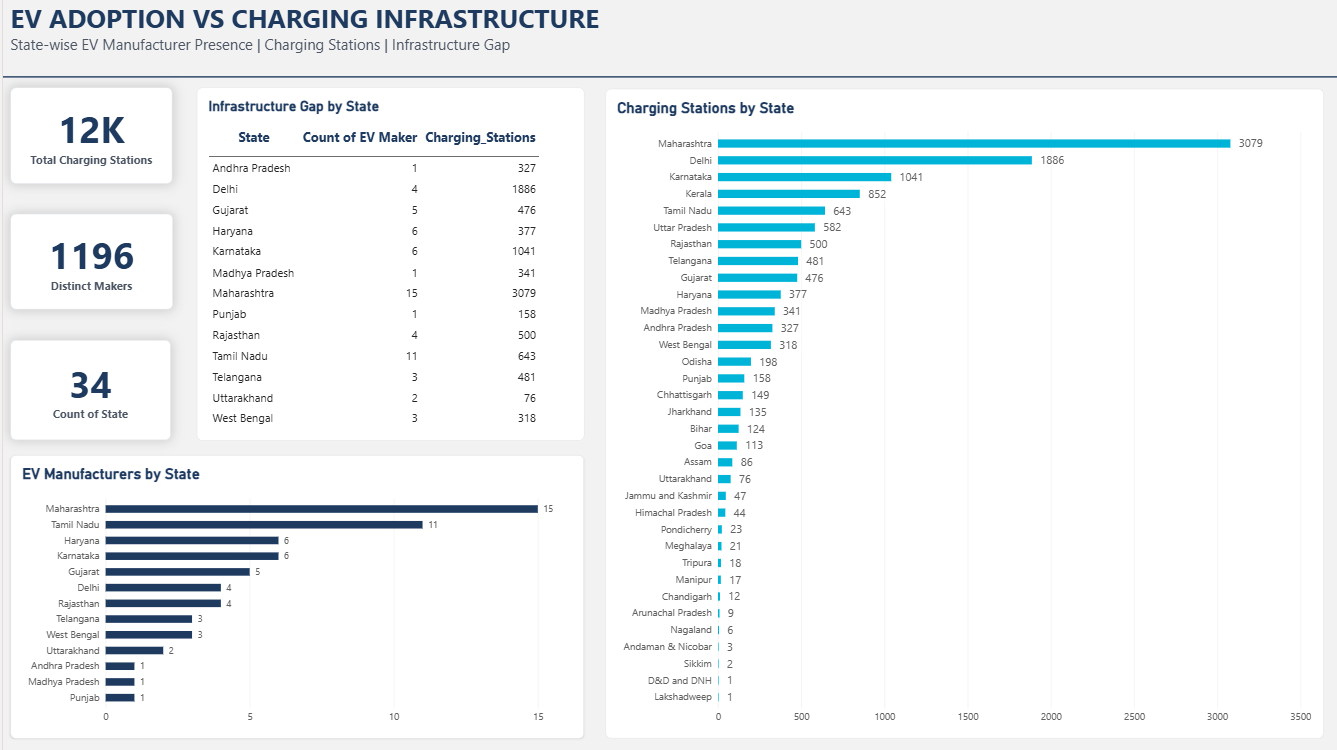

This screenshot's page, from the dashboard's own definition file:
{"tool":"powerbi","page":{"name":"Infrastructure Analysis","canvas":[1920,1080],"ordinal":2},"visuals":[{"type":"textbox","box":[10.8,0,1006.7,71.9],"z":0},{"type":"textbox","box":[10.8,48.5,949.2,77.3],"z":1000},{"type":"shape","box":[0,36,1920,149.2],"z":2000},{"type":"card","title":"Distinct Makers","fields":{"Values":["FactMakerSales.Distinct Makers"]},"box":[11.5,307.7,233.3,137.8],"z":3000},{"type":"card","title":"States with Charging Stations","fields":{"Values":["Count(FactCharging.State)"]},"box":[11.5,488.5,230.8,144.2],"z":4000},{"type":"card","title":"Total Charging Stations","fields":{"Values":["FactCharging.Total Charging Stations"]},"box":[10.2,126.5,232.7,138.8],"z":5000},{"type":"clusteredBarChart","title":"Charging Stations by State","fields":{"Category":["FactCharging.State"],"Y":["FactCharging.Total Charging Stations"]},"box":[867.3,126.9,1032.7,934.6],"z":6000},{"type":"clusteredBarChart","title":"EV Manufacturers by State","fields":{"Category":["DimMakerPlace.State"],"Y":["CountNonNull(DimMakerPlace.EV Maker)"]},"box":[11.5,653.8,825,407.7],"z":7000},{"type":"tableEx","title":"Infrastructure Gap by State","fields":{"Values":["DimMakerPlace.State","DimMakerPlace.EV Maker","FactCharging.Charging_Stations"]},"box":[278.8,125,557.7,507.7],"z":8000}]}

Visuals, with their boxes in screenshot pixels (x1, y1, x2, y2), scaled from the page's 1920x1080 canvas onto the 1337x750 screenshot:
textbox: 8/0/709/50
textbox: 8/34/668/87
shape: 0/25/1336/129
"Distinct Makers" card: 8/214/170/309
"States with Charging Stations" card: 8/339/169/439
"Total Charging Stations" card: 7/88/169/184
"Charging Stations by State" clusteredBarChart: 604/88/1323/737
"EV Manufacturers by State" clusteredBarChart: 8/454/583/737
"Infrastructure Gap by State" tableEx: 194/87/583/439
